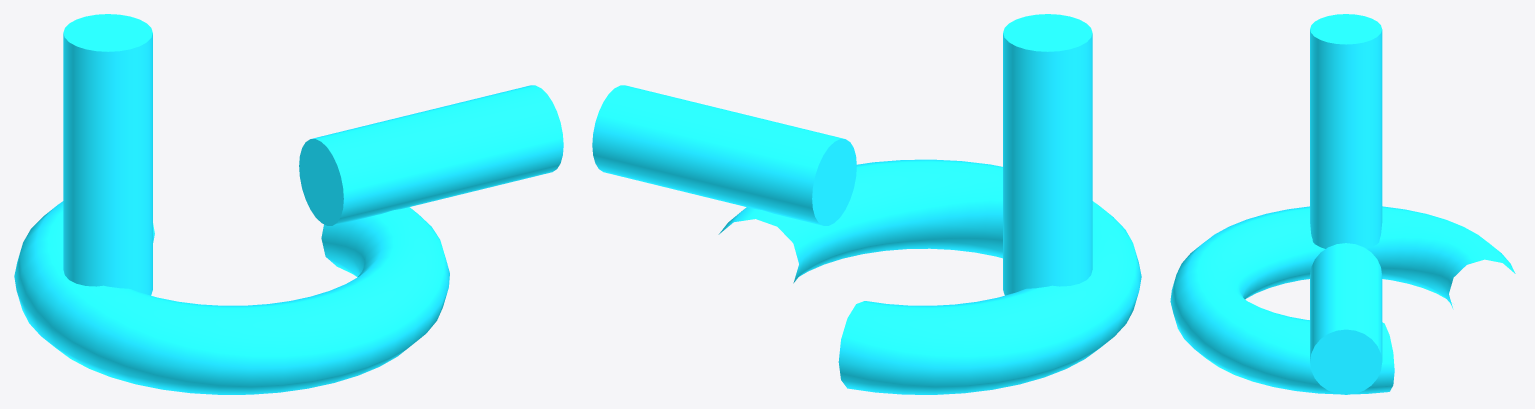
File: pipe-ptrap.glb
3 renders of one model, left to right at view 1: azimuth 30°, elevation 25°; view 2: azimuth 150°, elevation 25°; view 3: azimuth 270°, elevation 25°, orthographic. The views are drawn at different scales.
Visible parts, largest first — view 1: P-trap; view 2: P-trap; view 3: P-trap.
Boxes of the visible parts, x1,y1,x2,y2 form: P-trap: [14, 14, 563, 394]; P-trap: [592, 14, 1141, 394]; P-trap: [1170, 14, 1515, 394].
Bounding box in the file's own units: 1.92 × 1.17 × 1.45.
